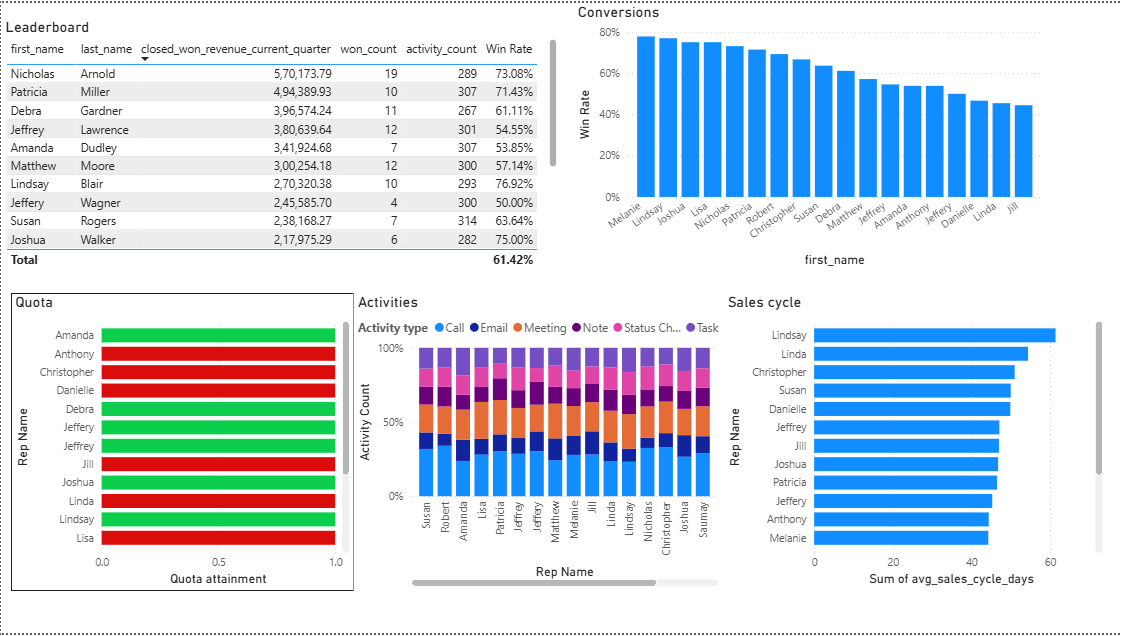

Layout of this report page (visuals, bound fields, positions):
{"tool":"powerbi","page":{"name":"Rep Performance","canvas":[1280,720],"ordinal":2},"visuals":[{"type":"tableEx","title":"Leaderboard","fields":{"Values":["public vw_rep_performance.first_name","public vw_rep_performance.last_name","public vw_rep_performance.closed_won_revenue_current_quarter","public vw_rep_performance.won_count","public vw_rep_performance.activity_count","public vw_rep_performance.Win Rate"]},"box":[0,16.7,640,290],"z":0},{"type":"clusteredBarChart","title":"Quota","fields":{"Category":["public vw_rep_performance.first_name"],"Y":["CountNonNull(public vw_rep_performance.quota_attainment)"]},"box":[11.7,331.7,391.7,340],"z":1},{"type":"hundredPercentStackedColumnChart","title":"Activities ","fields":{"Category":["10_activities_per_rep.first_name"],"Series":["10_activities_per_rep.activity_type"],"Y":["Sum(10_activities_per_rep.activity_count)"]},"box":[403.3,331.7,421.7,340],"z":2},{"type":"columnChart","title":"Conversions","fields":{"Y":["public vw_rep_performance.Win Rate"],"Category":["public vw_rep_performance.first_name"]},"box":[655,0,540,306.7],"z":3},{"type":"barChart","title":"Sales cycle","fields":{"Category":["public vw_sales_cycle_length.first_name"],"Y":["Sum(public vw_sales_cycle_length.avg_sales_cycle_days)"]},"box":[825,331.7,438.3,340],"z":4}]}

Visuals, with their boxes in screenshot pixels (x1, y1, x2, y2), scaled from the page's 1280x720 canvas onto the 1121x636 screenshot:
"Leaderboard" tableEx: crop(0, 15, 560, 271)
"Quota" clusteredBarChart: crop(10, 293, 353, 593)
"Activities " hundredPercentStackedColumnChart: crop(353, 293, 723, 593)
"Conversions" columnChart: crop(574, 0, 1047, 271)
"Sales cycle" barChart: crop(723, 293, 1106, 593)
